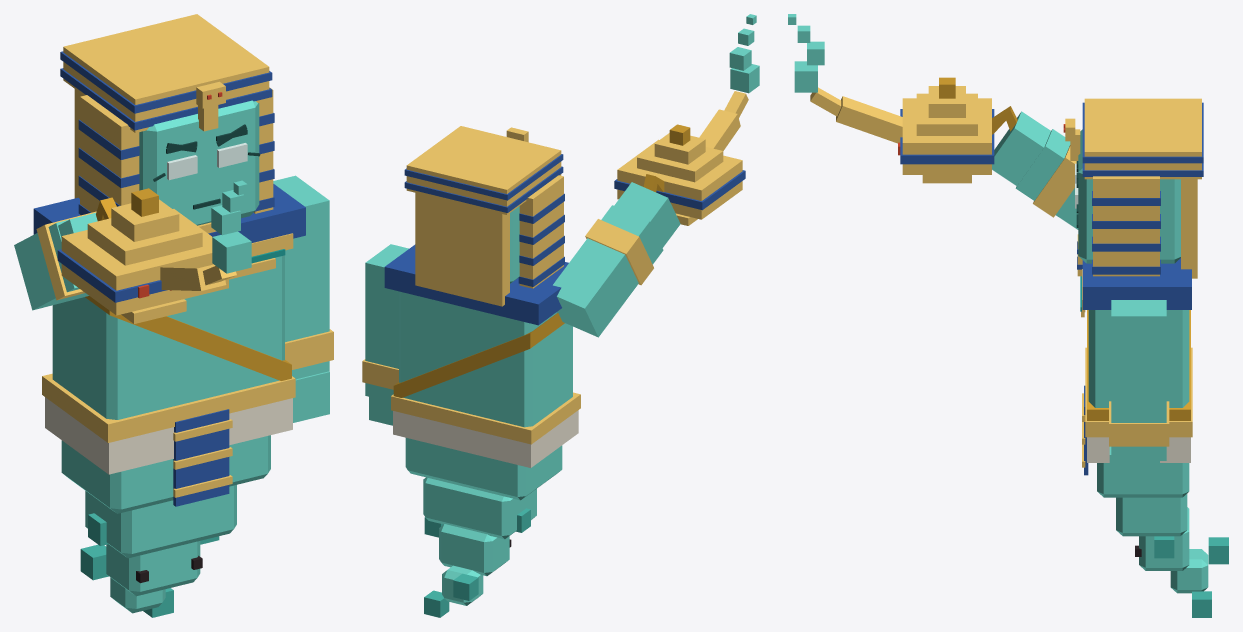
Rendered from w4_secretenemy.fbx.
3 views of the same model, side by side, from view 1: azimuth 30°, elevation 25°; view 2: azimuth 150°, elevation 25°; view 3: azimuth 270°, elevation 25° (orthographic). The views are drawn at different scales.
Parts seen in each view (by area): view 1: PhantomPharaoh.Torso, PhantomPharaoh.Headdress, PhantomPharaoh.Lamp, PhantomPharaoh.Head, PhantomPharaoh.LeftArm, PhantomPharaoh.Kilt, PhantomPharaoh.HeaddressStripes, PhantomPharaoh.Belt, PhantomPharaoh.Apron, PhantomPharaoh.Sash, PhantomPharaoh.Collar, PhantomPharaoh.LampFire (+12 smaller); view 2: PhantomPharaoh.Torso, PhantomPharaoh.Headdress, PhantomPharaoh.Lamp, PhantomPharaoh.RightArm, PhantomPharaoh.Kilt, PhantomPharaoh.Collar, PhantomPharaoh.LeftArm, PhantomPharaoh.HeaddressStripes, PhantomPharaoh.Belt, PhantomPharaoh.Sash, PhantomPharaoh.RightHand, PhantomPharaoh.RightBracer (+6 smaller); view 3: PhantomPharaoh.Headdress, PhantomPharaoh.Torso, PhantomPharaoh.Lamp, PhantomPharaoh.LeftArm, PhantomPharaoh.HeaddressStripes, PhantomPharaoh.Collar, PhantomPharaoh.Head, PhantomPharaoh.RightHand, PhantomPharaoh.RightArm, PhantomPharaoh.LeftBracer, PhantomPharaoh.Wisps, PhantomPharaoh.LampFire (+6 smaller).
Part boxes in pixels (<box>): PhantomPharaoh.Torso: <box>52,255,284,613</box>; PhantomPharaoh.Headdress: <box>63,14,273,215</box>; PhantomPharaoh.Lamp: <box>61,199,236,323</box>; PhantomPharaoh.Head: <box>139,100,259,225</box>; PhantomPharaoh.LeftArm: <box>273,175,329,379</box>; PhantomPharaoh.Kilt: <box>45,397,292,474</box>; PhantomPharaoh.HeaddressStripes: <box>60,51,274,215</box>; PhantomPharaoh.Belt: <box>42,373,295,442</box>; PhantomPharaoh.Apron: <box>173,409,229,506</box>; PhantomPharaoh.Sash: <box>85,296,291,380</box>; PhantomPharaoh.Collar: <box>33,184,305,242</box>; PhantomPharaoh.LampFire: <box>211,180,251,273</box>; PhantomPharaoh.Torso: <box>399,291,572,605</box>; PhantomPharaoh.Headdress: <box>406,126,563,306</box>; PhantomPharaoh.Lamp: <box>617,91,748,225</box>; PhantomPharaoh.RightArm: <box>553,205,663,337</box>; PhantomPharaoh.Kilt: <box>393,410,578,467</box>; PhantomPharaoh.Collar: <box>384,244,568,325</box>; PhantomPharaoh.LeftArm: <box>365,244,408,401</box>; PhantomPharaoh.HeaddressStripes: <box>404,154,564,286</box>; PhantomPharaoh.Belt: <box>391,392,580,444</box>; PhantomPharaoh.Sash: <box>393,313,564,397</box>; PhantomPharaoh.RightHand: <box>614,182,680,247</box>; PhantomPharaoh.RightBracer: <box>585,219,653,285</box>; PhantomPharaoh.Headdress: <box>1084,98,1201,278</box>; PhantomPharaoh.Torso: <box>1088,310,1208,593</box>; PhantomPharaoh.Lamp: <box>810,86,991,183</box>; PhantomPharaoh.LeftArm: <box>1111,300,1166,460</box>; PhantomPharaoh.HeaddressStripes: <box>1082,102,1203,274</box>; PhantomPharaoh.Collar: <box>1082,258,1191,309</box>; PhantomPharaoh.Head: <box>1078,129,1180,263</box>; PhantomPharaoh.RightHand: <box>992,111,1050,185</box>; PhantomPharaoh.RightArm: <box>1015,129,1078,229</box>; PhantomPharaoh.LeftBracer: <box>1109,401,1169,446</box>; PhantomPharaoh.Wisps: <box>1154,536,1228,617</box>; PhantomPharaoh.LampFire: <box>788,14,824,92</box>.
Bounding box in the file's own units: 3.88 × 6.98 × 5.25.
